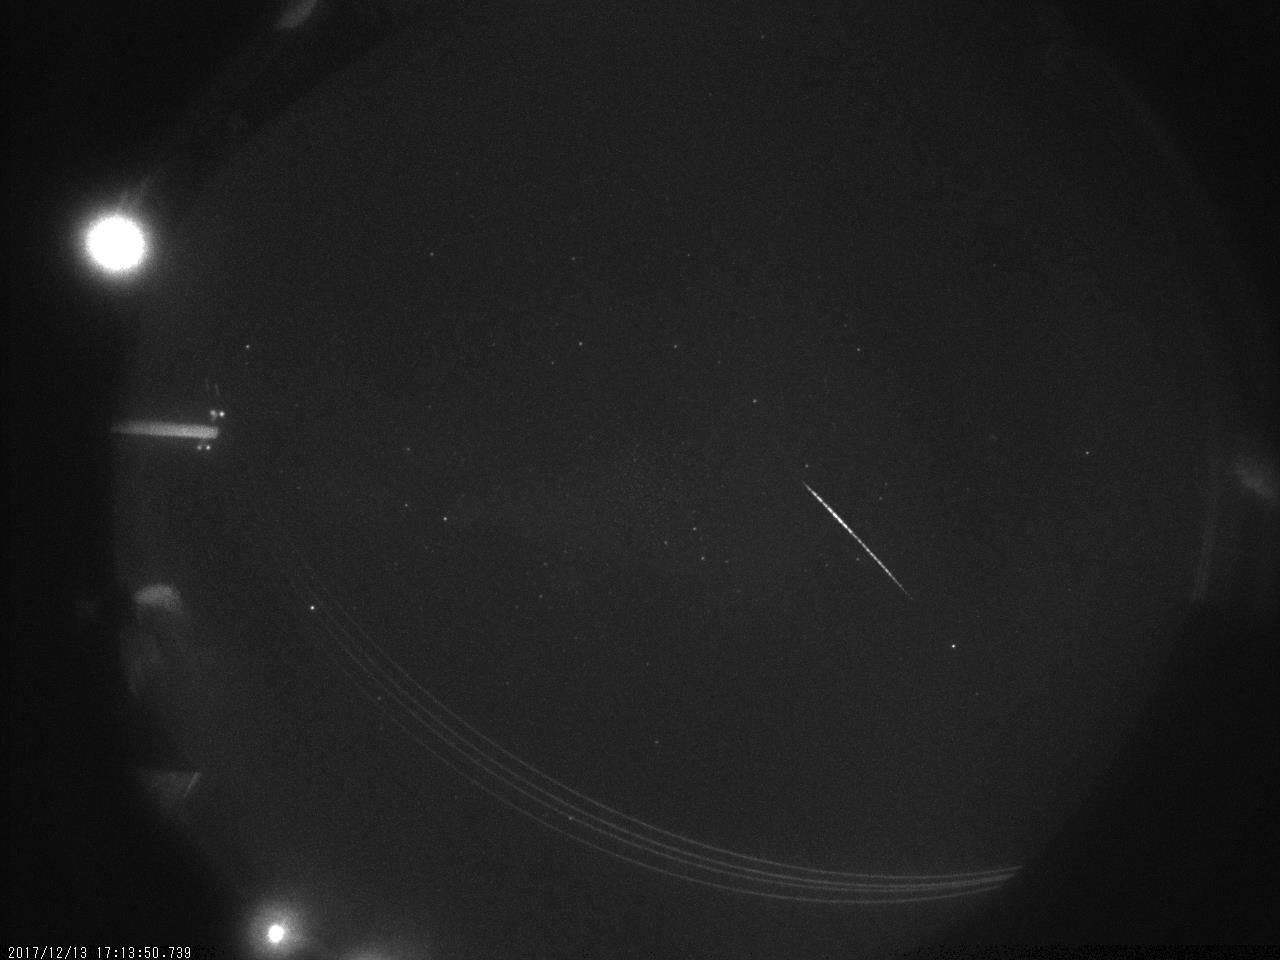Meteor: (804, 476, 913, 603)
